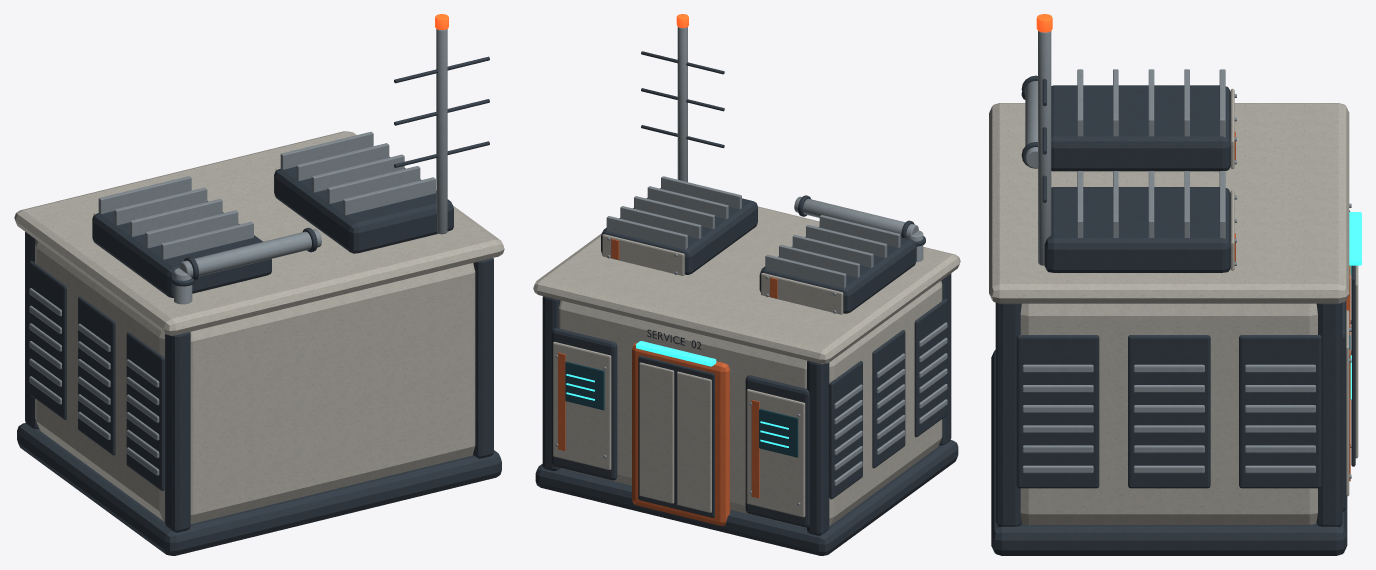
Rendered from service-station.glb.
3 renders of one model, left to right at view 1: azimuth 30°, elevation 25°; view 2: azimuth 150°, elevation 25°; view 3: azimuth 270°, elevation 25°, orthographic. The views are drawn at different scales.
Parts seen in each view (by area): view 1: Assembly_Lunar_ceramic, Assembly_Graphite_frame, Assembly_Machined_alloy; view 2: Assembly_Lunar_ceramic, Assembly_Graphite_frame, Assembly_Machined_alloy, Assembly_Orange_armor, Assembly_Dark_blue_glazing, Assembly_Ion_cyan; view 3: Assembly_Graphite_frame, Assembly_Lunar_ceramic, Assembly_Machined_alloy, Assembly_Ion_cyan, Assembly_Orange_armor.
Part boxes in pixels (box(x1,y1,x2,y2)): Assembly_Lunar_ceramic: box(14, 131, 504, 523); Assembly_Graphite_frame: box(17, 56, 501, 555); Assembly_Machined_alloy: box(29, 29, 447, 475); Assembly_Lunar_ceramic: box(533, 206, 960, 528); Assembly_Graphite_frame: box(535, 51, 958, 555); Assembly_Machined_alloy: box(555, 27, 947, 505); Assembly_Orange_armor: box(558, 239, 777, 525); Assembly_Dark_blue_glazing: box(565, 361, 798, 457); Assembly_Ion_cyan: box(566, 341, 788, 447); Assembly_Graphite_frame: box(991, 75, 1355, 555); Assembly_Lunar_ceramic: box(989, 88, 1358, 524); Assembly_Machined_alloy: box(1022, 31, 1351, 478); Assembly_Ion_cyan: box(1349, 212, 1361, 399); Assembly_Orange_armor: box(1234, 131, 1350, 481).
Size of the model in its own units: 5.13 by 6.46 by 4.19.
7 materials, 5 textured.
